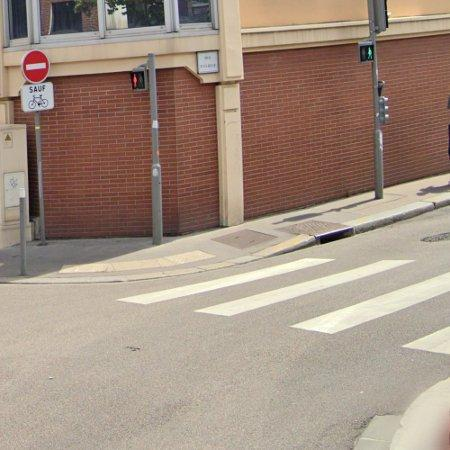crosswalks: (116, 255, 450, 354)
